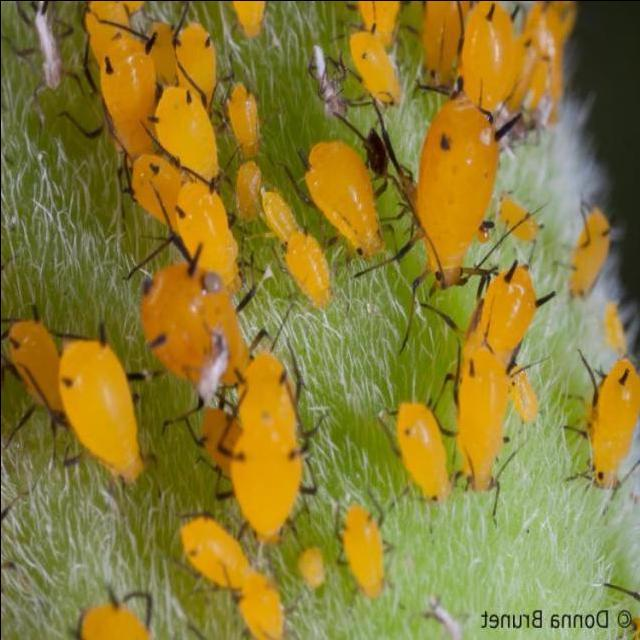aphid: (400, 60, 514, 313), (210, 336, 324, 552), (50, 308, 154, 510), (439, 330, 528, 500), (294, 129, 394, 268), (154, 166, 254, 300), (369, 390, 458, 516), (575, 352, 640, 508), (462, 268, 549, 384), (449, 0, 526, 118), (144, 80, 228, 186), (96, 35, 158, 158), (8, 295, 66, 420), (332, 486, 389, 601), (173, 522, 252, 596), (566, 203, 615, 300), (350, 20, 400, 111), (235, 569, 287, 640), (226, 74, 260, 148), (228, 152, 262, 221)
